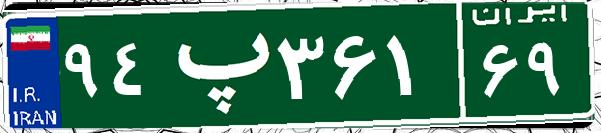1: (385, 28, 445, 110)
3: (273, 28, 330, 110)
4: (110, 28, 158, 105)
6: (330, 28, 385, 110), (475, 38, 525, 113)
9: (57, 26, 110, 107), (525, 38, 570, 115)
پ: (158, 15, 273, 115)
